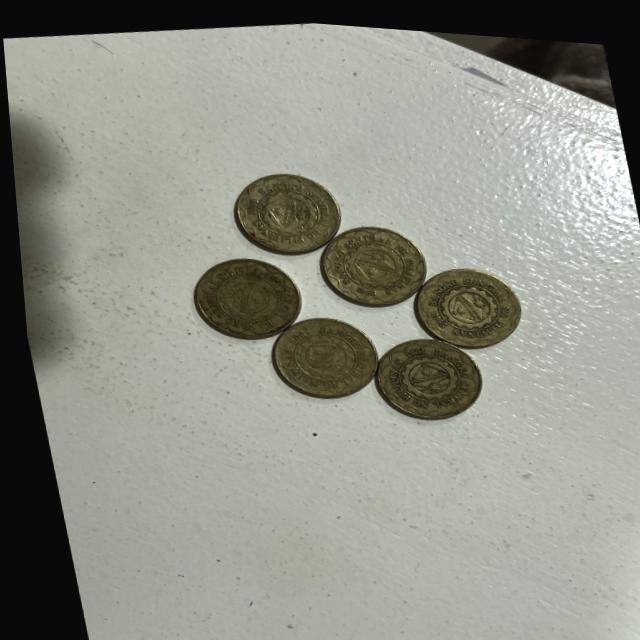5_Old_Back: (249, 294, 391, 403), (177, 242, 306, 344), (218, 155, 345, 257), (401, 249, 526, 348), (356, 322, 479, 420), (308, 209, 424, 301)
